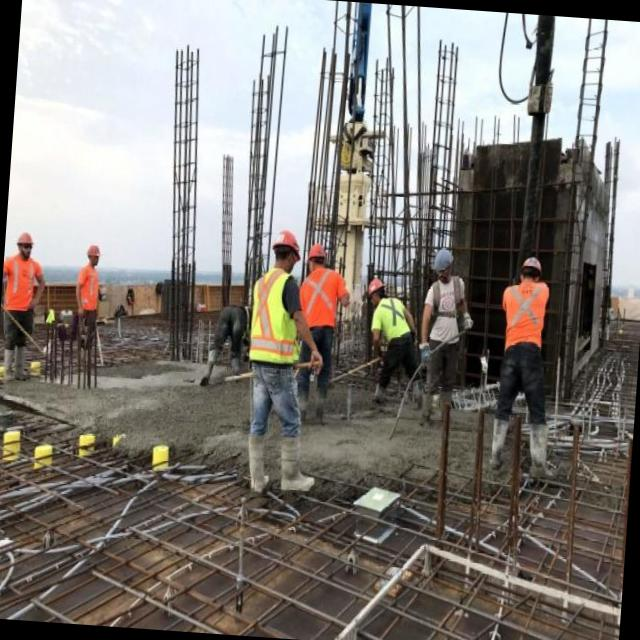Helmet: (268, 226, 302, 256), (428, 252, 459, 272), (522, 249, 542, 279)
Vest: (246, 272, 309, 377), (499, 280, 545, 348)
